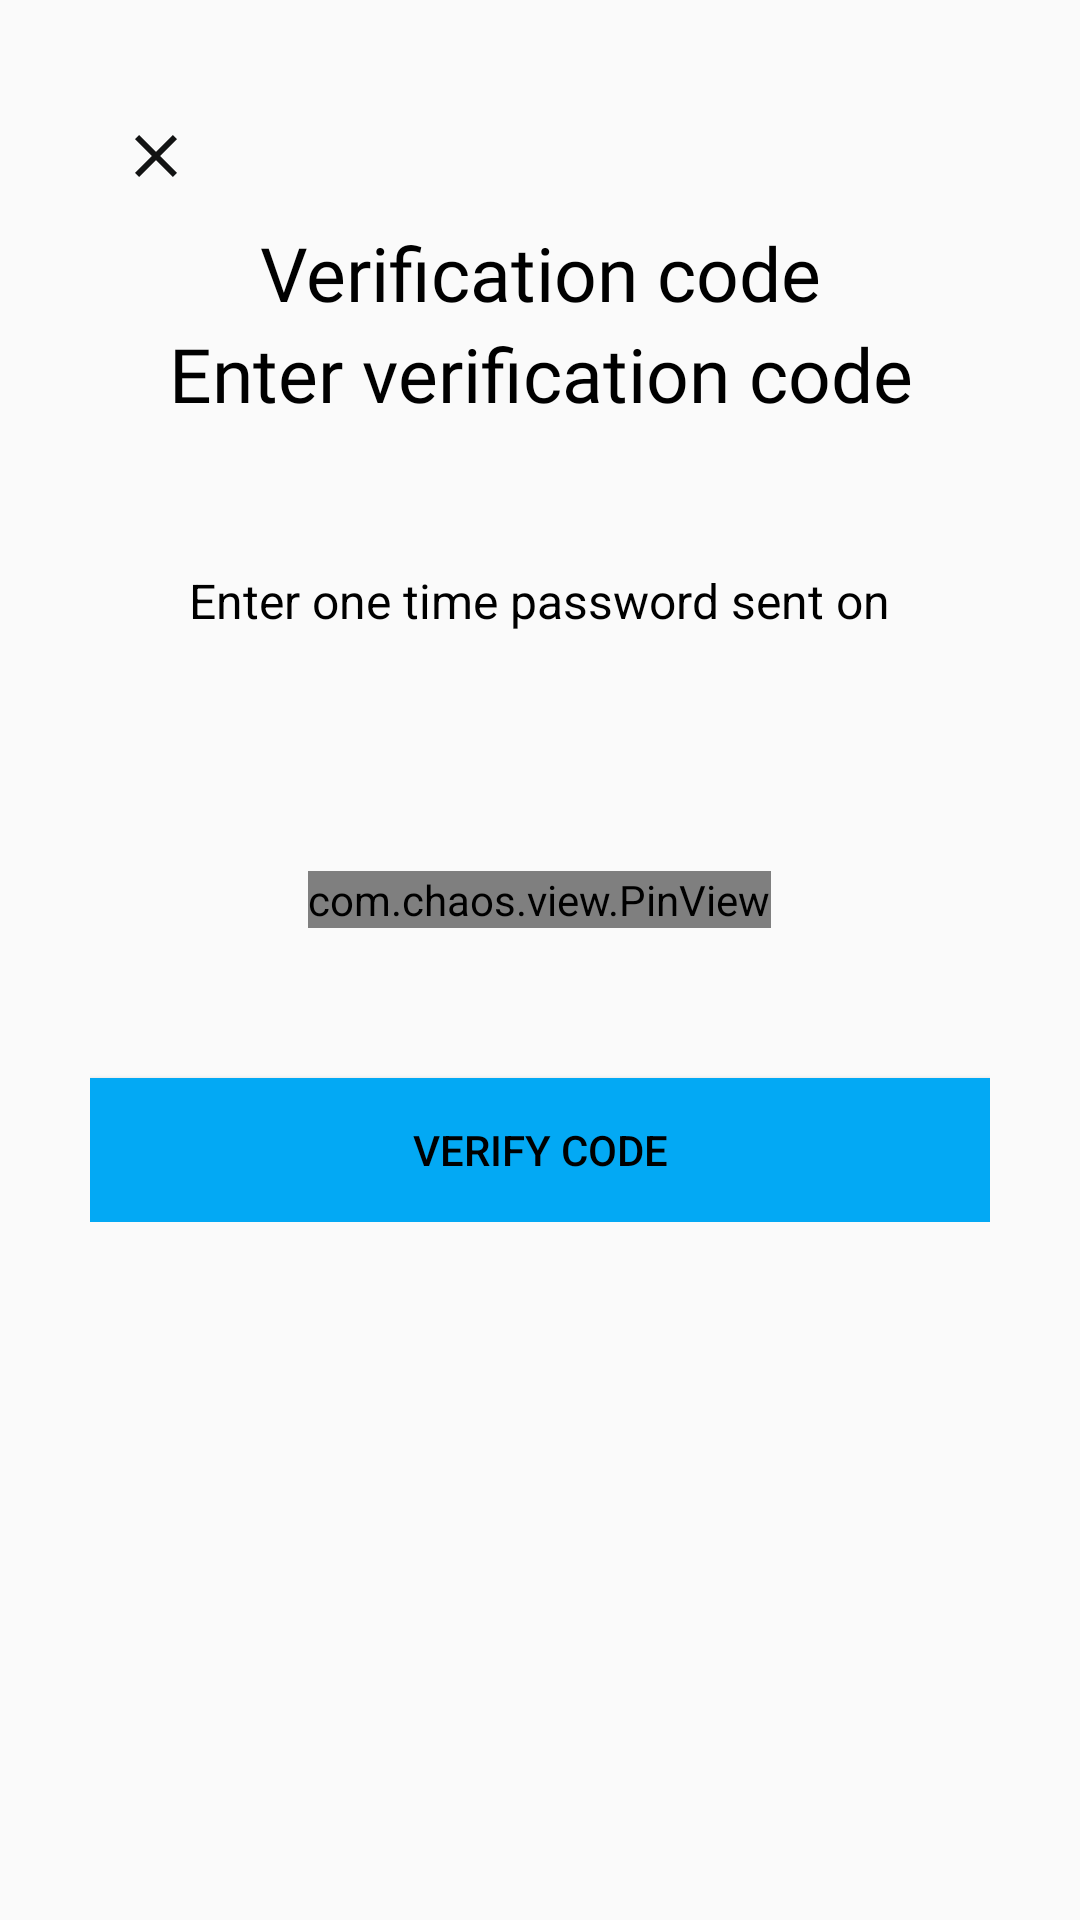

Icons on this 1080×1920 Android screen, each with the point to tap as [x,y]:
verify close: [156,156]
